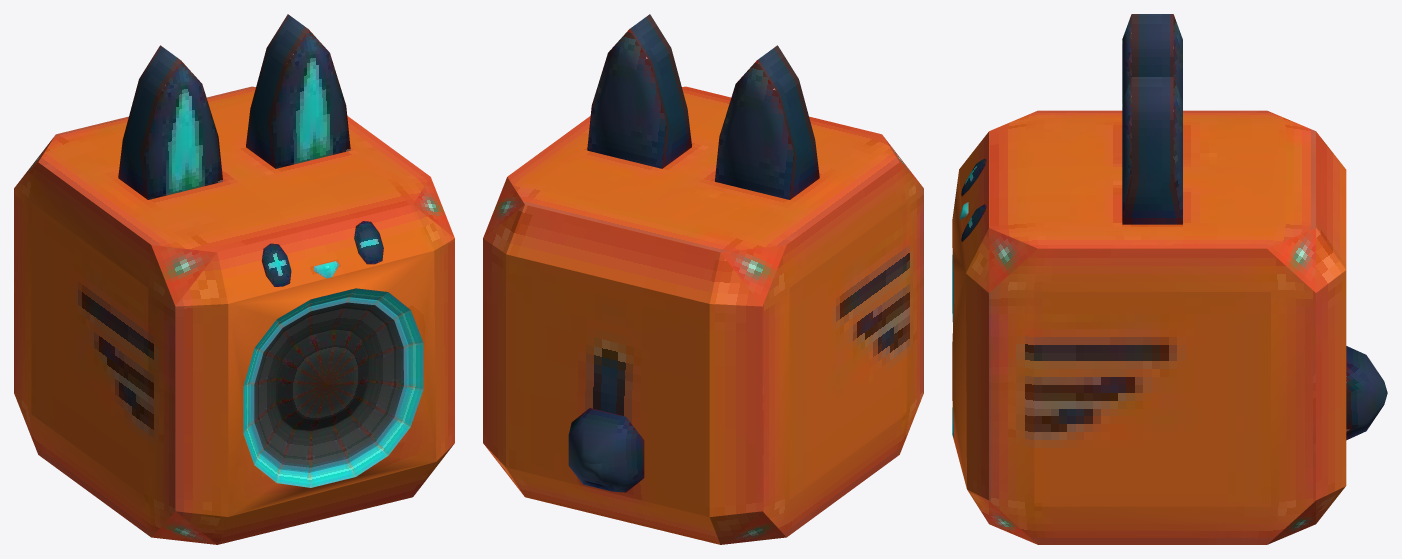
File: speaker.glb
The picture shows the model from 3 angles, left to right: view 1: azimuth 30°, elevation 25°; view 2: azimuth 150°, elevation 25°; view 3: azimuth 270°, elevation 25°; orthographic projection.
Parts seen in each view (by area): view 1: speaker_combined, speaker_combined_MAT_speaker1_0.001; view 2: speaker_combined; view 3: speaker_combined.
Boxes of the visible parts, x1,y1,x2,y2 form: speaker_combined: (14, 14, 454, 544); speaker_combined_MAT_speaker1_0.001: (243, 261, 423, 487); speaker_combined: (483, 14, 923, 544); speaker_combined: (952, 14, 1387, 544).
Bounding box in the file's own units: 0.0131 × 0.0185 × 0.0169.
Materials: 1 (1 with a texture image).
